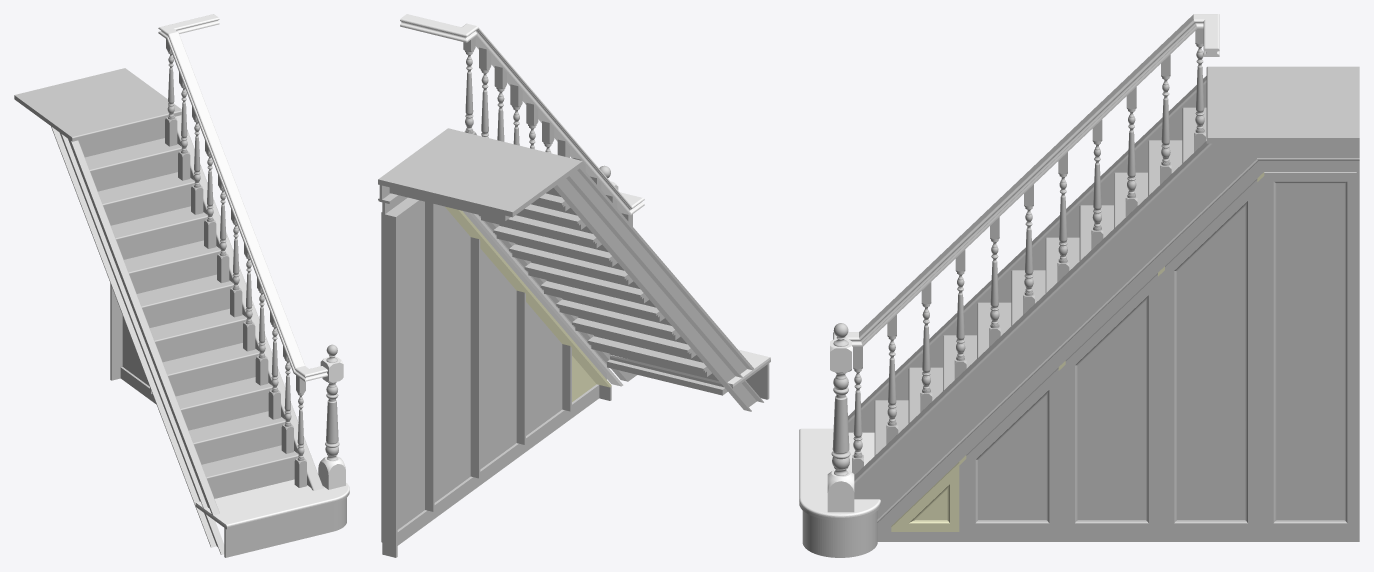
3 renders of one model, left to right at view 1: azimuth 30°, elevation 25°; view 2: azimuth 150°, elevation 25°; view 3: azimuth 270°, elevation 25°, orthographic. The views are drawn at different scales.
Parts seen in each view (by area): view 1: Group_004, Group_010, OuterShell-B-A-B_001, OuterShell_001, -A-A-A_001, Difference_001, -A-A-A_002, Group_035, Group_037, Group_003, Group_029, Group_023 (+26 smaller); view 2: Group61#6_001, Group_004, Group61#1_001, Group61#9_001, Group_010, Group48#1[Panel]-A_001, Group61#8_001, Group_002, Group70#3_001, OuterShell-B-A-B_001, Group70#5_001, Group50#1[Panel]-B-A-A_001 (+33 smaller); view 3: Group61#1_001, Group61#6_001, OuterShell_003, Group61#9_001, Group_004, Group61#8_001, Group57#1[Panel]-B-A_001, OuterShell-B-A-B_001, Group_002, Difference#1-B-B_001, -A-A-A_002, Difference_001 (+24 smaller).
Part boxes in pixels (<box>): Group_004: <box>14,68,181,139</box>; Group_010: <box>51,126,224,554</box>; OuterShell-B-A-B_001: <box>166,32,304,372</box>; OuterShell_001: <box>224,498,346,557</box>; -A-A-A_001: <box>69,140,219,515</box>; Difference_001: <box>195,479,349,527</box>; -A-A-A_002: <box>175,115,323,490</box>; Group_035: <box>195,426,281,464</box>; Group_037: <box>182,392,268,430</box>; Group_003: <box>208,460,294,498</box>; Group_029: <box>117,221,203,259</box>; Group_023: <box>156,324,242,362</box>; Group61#6_001: <box>434,204,470,502</box>; Group_004: <box>378,128,583,214</box>; Group61#1_001: <box>381,201,424,542</box>; Group61#9_001: <box>480,248,516,469</box>; Group_010: <box>553,175,763,411</box>; Group48#1[Panel]-A_001: <box>382,213,397,557</box>; Group61#8_001: <box>526,302,562,435</box>; Group_002: <box>397,384,599,545</box>; Group70#3_001: <box>425,201,434,511</box>; OuterShell-B-A-B_001: <box>475,27,632,215</box>; Group70#5_001: <box>470,237,480,478</box>; Group50#1[Panel]-B-A-A_001: <box>445,206,611,387</box>; Group61#1_001: <box>1264,172,1356,531</box>; Group61#6_001: <box>1165,179,1257,531</box>; OuterShell_003: <box>854,143,1271,518</box>; Group61#9_001: <box>1065,273,1157,531</box>; Group_004: <box>1206,66,1359,140</box>; Group61#8_001: <box>966,367,1058,531</box>; Group57#1[Panel]-B-A_001: <box>879,161,1263,525</box>; OuterShell-B-A-B_001: <box>859,14,1197,346</box>; Group_002: <box>894,527,1356,541</box>; Difference#1-B-B_001: <box>848,84,1206,432</box>; -A-A-A_002: <box>854,141,1213,485</box>; Difference_001: <box>799,428,880,517</box>.
Bounding box in the file's own units: 1301 × 3348 × 3283.
